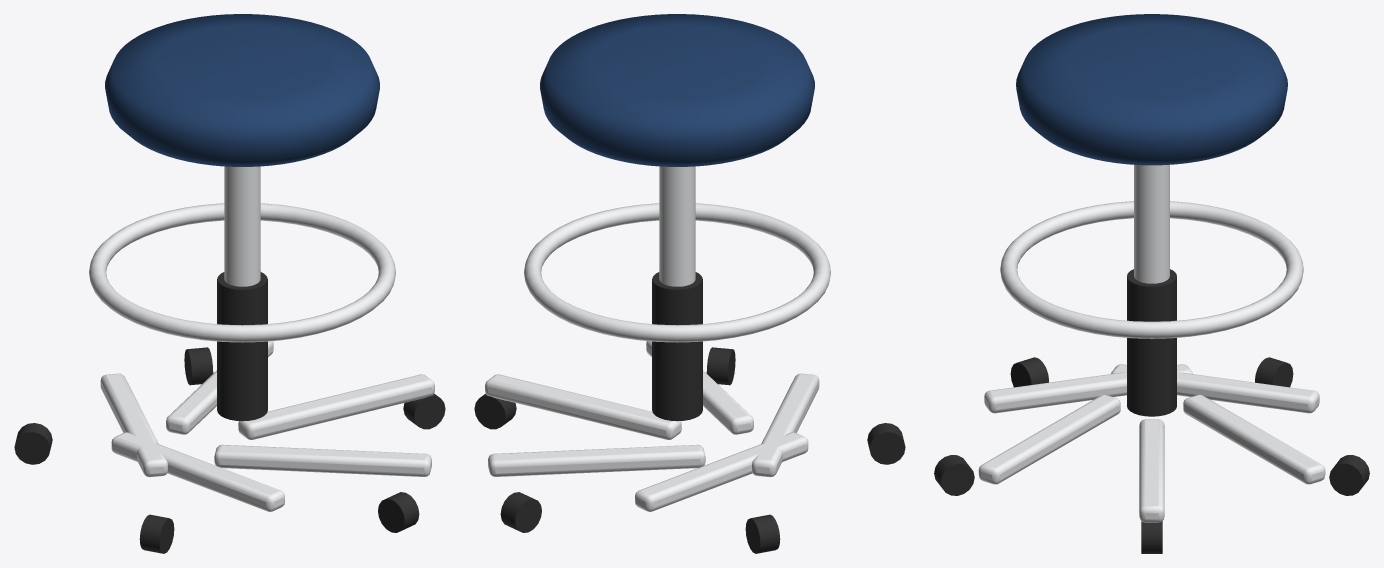
File: lab-stool.glb
3 renders of one model, left to right at view 1: azimuth 30°, elevation 25°; view 2: azimuth 150°, elevation 25°; view 3: azimuth 270°, elevation 25°, orthographic.
Visible parts, largest first — view 1: lab_stool_seat, foot_ring, gas_lift_cover, star_leg.002, star_leg, gas_lift, star_leg.004, star_leg.001, star_leg.003, castor.004, castor.002, castor.003 (+2 smaller); view 2: lab_stool_seat, foot_ring, gas_lift_cover, star_leg.003, star_leg, gas_lift, star_leg.001, star_leg.004, star_leg.002, castor.001, castor.003, castor.002 (+2 smaller); view 3: lab_stool_seat, foot_ring, gas_lift_cover, gas_lift, star_leg.002, star_leg.003, star_leg.001, star_leg.004, star_leg, castor.001, castor.004, castor.002 (+2 smaller).
Part boxes in pixels (x1=…): lab_stool_seat: x1=105, y1=14, x2=379, y2=166; foot_ring: x1=89, y1=203, x2=395, y2=342; gas_lift_cover: x1=217, y1=272, x2=267, y2=421; star_leg.002: x1=214, y1=444, x2=431, y2=476; star_leg: x1=238, y1=374, x2=434, y2=439; gas_lift: x1=224, y1=166, x2=260, y2=286; star_leg.004: x1=111, y1=432, x2=284, y2=511; star_leg.001: x1=100, y1=373, x2=167, y2=477; star_leg.003: x1=166, y1=341, x2=273, y2=434; castor.004: x1=378, y1=492, x2=419, y2=532; castor.002: x1=14, y1=423, x2=52, y2=464; castor.003: x1=139, y1=514, x2=174, y2=553; lab_stool_seat: x1=540, y1=14, x2=814, y2=166; foot_ring: x1=524, y1=203, x2=830, y2=342; gas_lift_cover: x1=652, y1=272, x2=702, y2=421; star_leg.003: x1=488, y1=444, x2=705, y2=476; star_leg: x1=485, y1=374, x2=681, y2=439; gas_lift: x1=659, y1=166, x2=695, y2=286; star_leg.001: x1=635, y1=432, x2=808, y2=511; star_leg.004: x1=752, y1=373, x2=819, y2=477; star_leg.002: x1=646, y1=341, x2=753, y2=434; castor.001: x1=500, y1=492, x2=541, y2=532; castor.003: x1=867, y1=423, x2=905, y2=464; castor.002: x1=745, y1=514, x2=780, y2=553; lab_stool_seat: x1=1016, y1=14, x2=1287, y2=165; foot_ring: x1=1000, y1=201, x2=1303, y2=338; gas_lift_cover: x1=1127, y1=269, x2=1176, y2=416; gas_lift: x1=1134, y1=164, x2=1169, y2=283; star_leg.002: x1=978, y1=394, x2=1120, y2=484; star_leg.003: x1=1183, y1=394, x2=1325, y2=484; star_leg.001: x1=1111, y1=364, x2=1319, y2=413; star_leg.004: x1=984, y1=364, x2=1192, y2=413; star_leg: x1=1139, y1=419, x2=1164, y2=522; castor.001: x1=1329, y1=455, x2=1369, y2=495; castor.004: x1=934, y1=455, x2=974, y2=495; castor.002: x1=1255, y1=357, x2=1293, y2=387.
Size of the model in its own units: 0.5787 by 0.62 by 0.6084.
